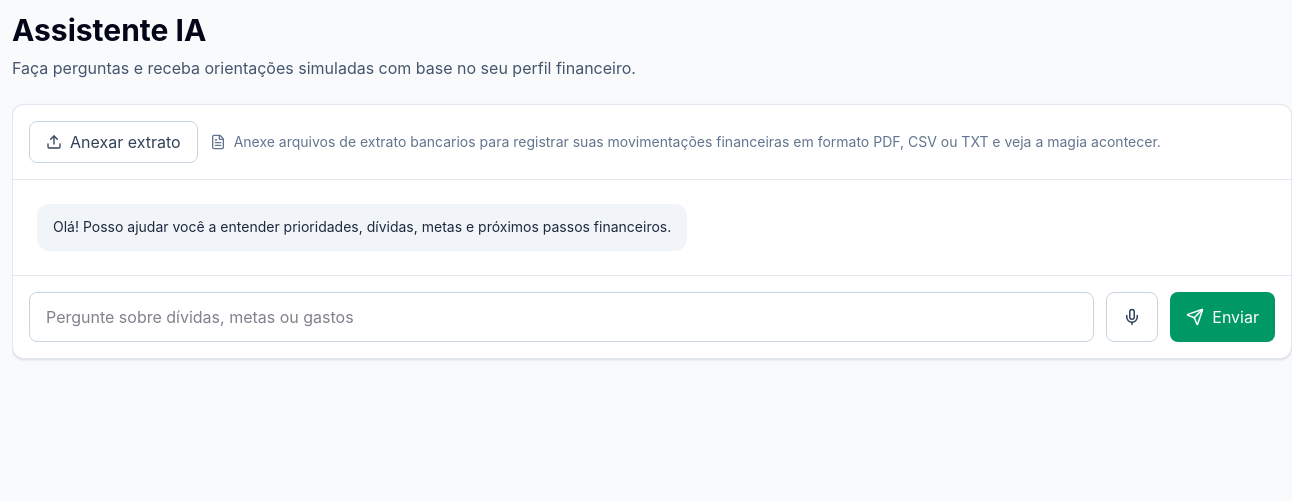
AIAssistant › exibe a resposta da IA após envio
Type "Análise geral" into the field with placeholder "Pergunte sobre dívidas, metas ou gastos" at (562, 317), box [29, 292, 1094, 342]
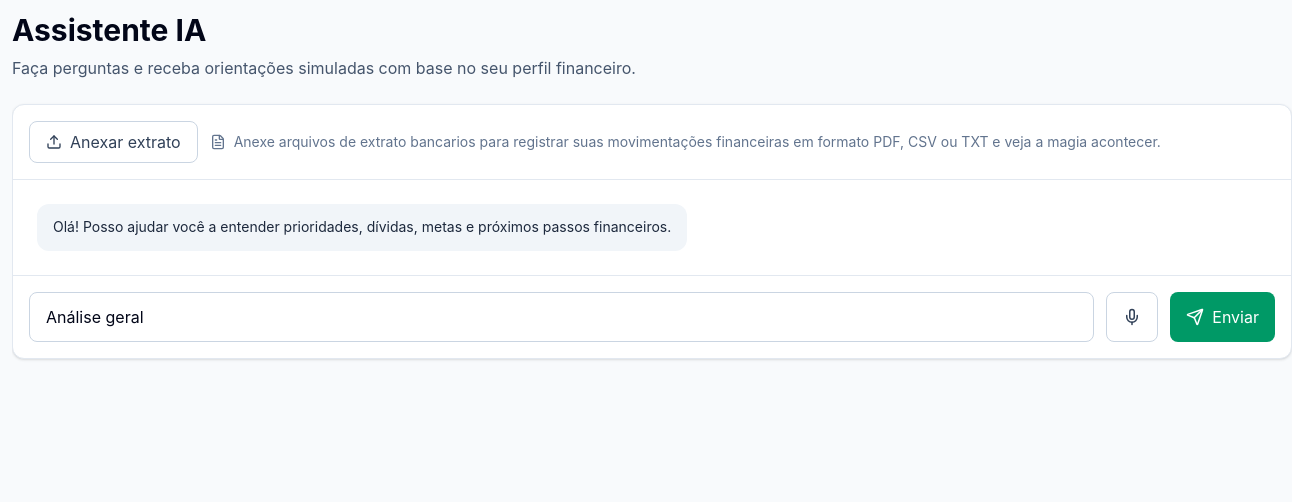
Click the button "Enviar" at (1223, 317), box [1170, 292, 1275, 342]
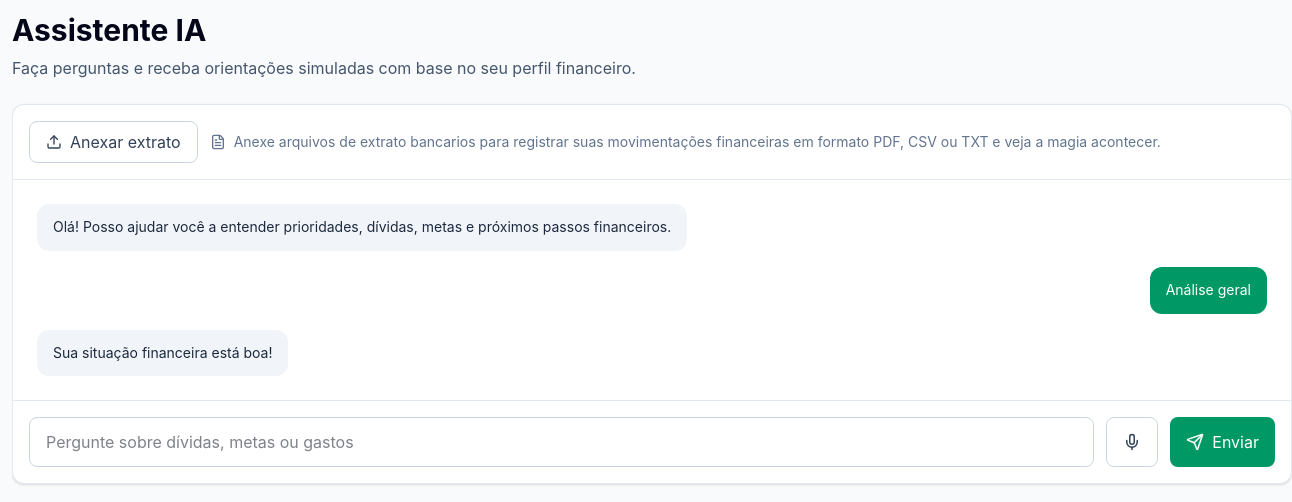
Result: the text "Sua situação financeira está boa!" is shown at [37, 330, 288, 376]
